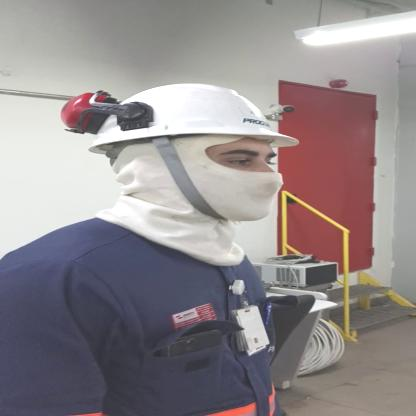Balaclava: (92, 143, 296, 266)
Capacete: (51, 81, 305, 149)
